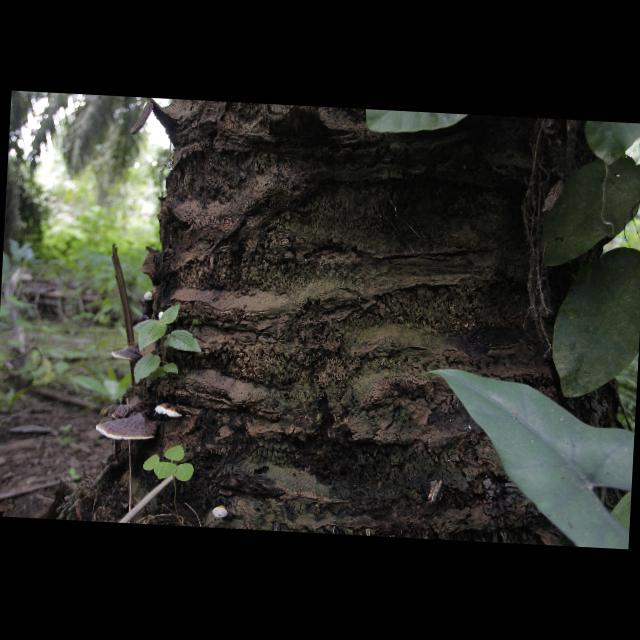ganoderma: (96, 413, 159, 444), (112, 406, 151, 423), (112, 345, 145, 363), (156, 403, 185, 419)
primordium: (213, 506, 230, 520), (144, 290, 156, 302), (159, 313, 165, 321)
